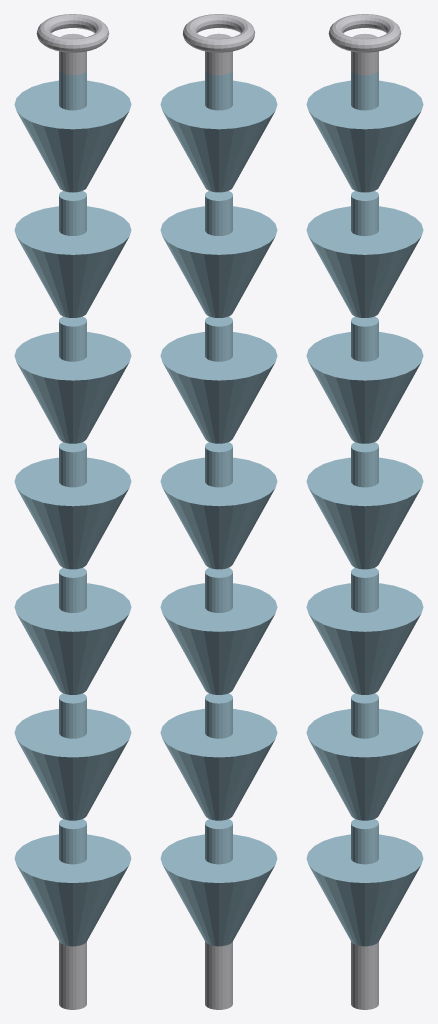
Rendered from Cadena_921mm.fbx.
3 views of the same model, side by side, from view 1: azimuth 90°, elevation 25°; view 2: azimuth 150°, elevation 25°; view 3: azimuth 270°, elevation 25° (orthographic).
Parts seen in each view (by area): view 1: Cadena_921mm; view 2: Cadena_921mm; view 3: Cadena_921mm.
Part boxes in pixels (x1,y1,x2,y2): Cadena_921mm: (14,14,131,1009); Cadena_921mm: (160,14,277,1009); Cadena_921mm: (306,14,423,1009).
Bounding box in the file's own units: 10 × 92.1 × 10.
